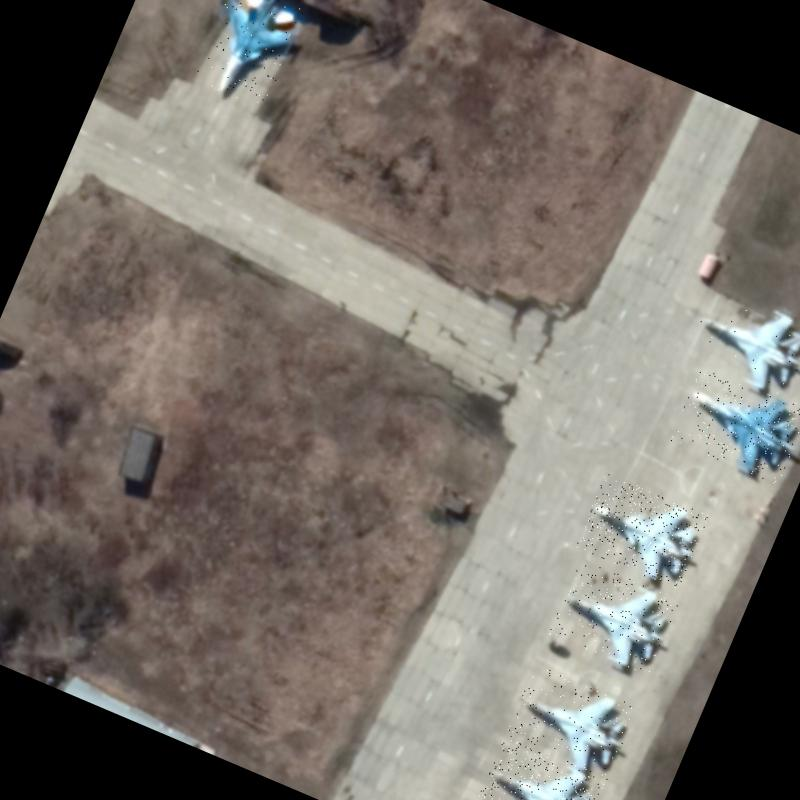A1: (548, 558, 680, 677), (504, 664, 638, 781), (685, 282, 800, 400), (471, 735, 606, 800)
A19: (669, 363, 800, 486), (574, 473, 710, 590), (190, 0, 308, 113)
